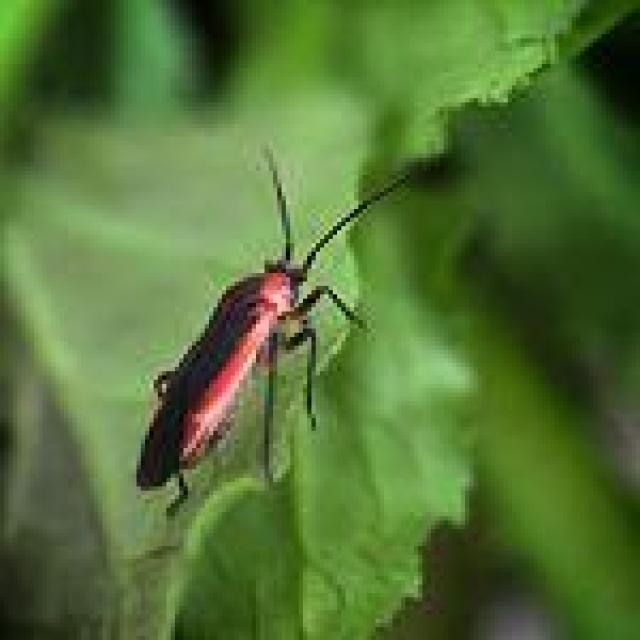Miridae-Adult-: (120, 129, 440, 531)
